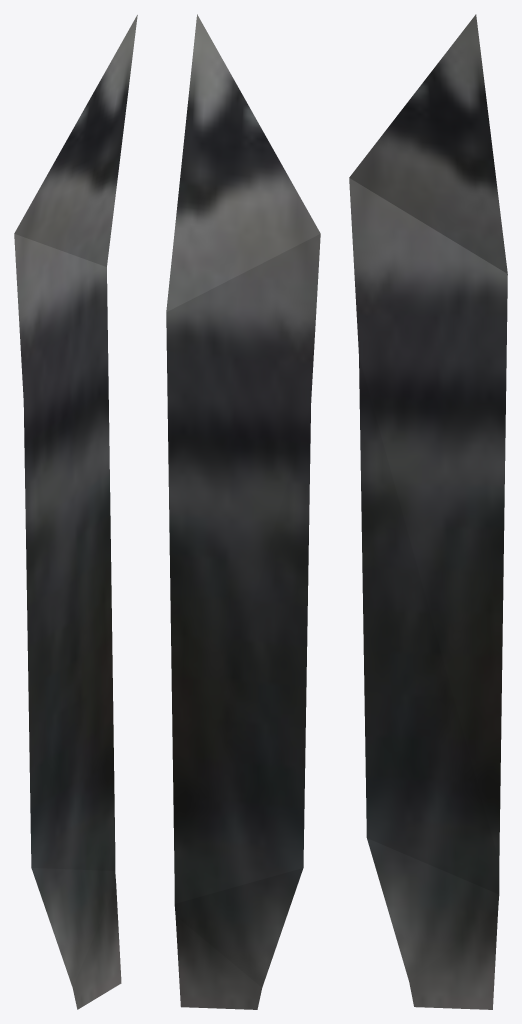
3 renders of one model, left to right at view 1: azimuth 30°, elevation 25°; view 2: azimuth 150°, elevation 25°; view 3: azimuth 330°, elevation 25°, orthographic. The views are drawn at different scales.
Bounding box in the file's own units: 0.0812 × 0.6161 × 0.0351.
Materials: 1 (1 with a texture image).
